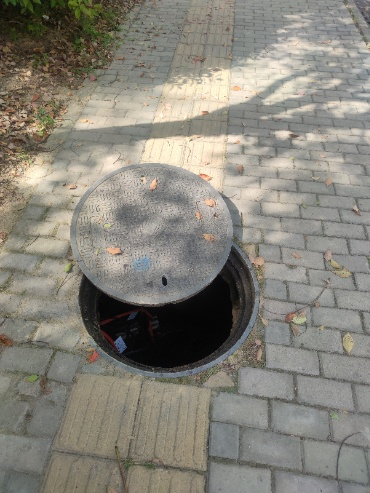uncovered: (68, 162, 260, 377)
